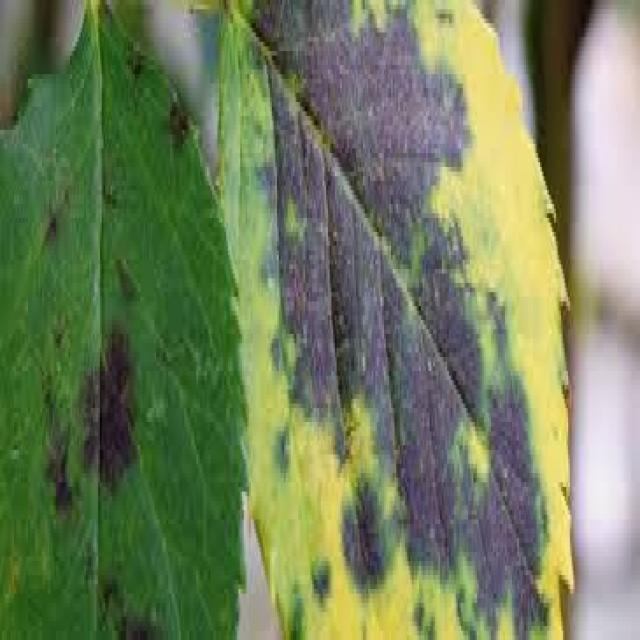black-spot: (266, 27, 600, 601)
